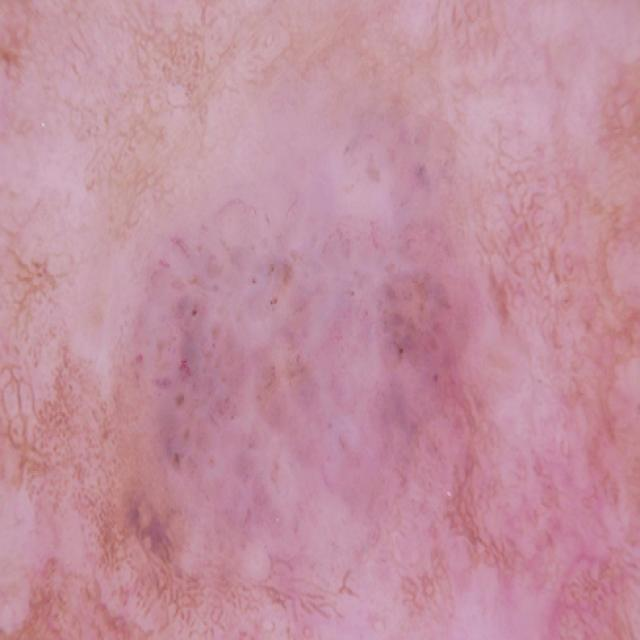Keratosis: (0, 266, 586, 640), (328, 89, 640, 489)
